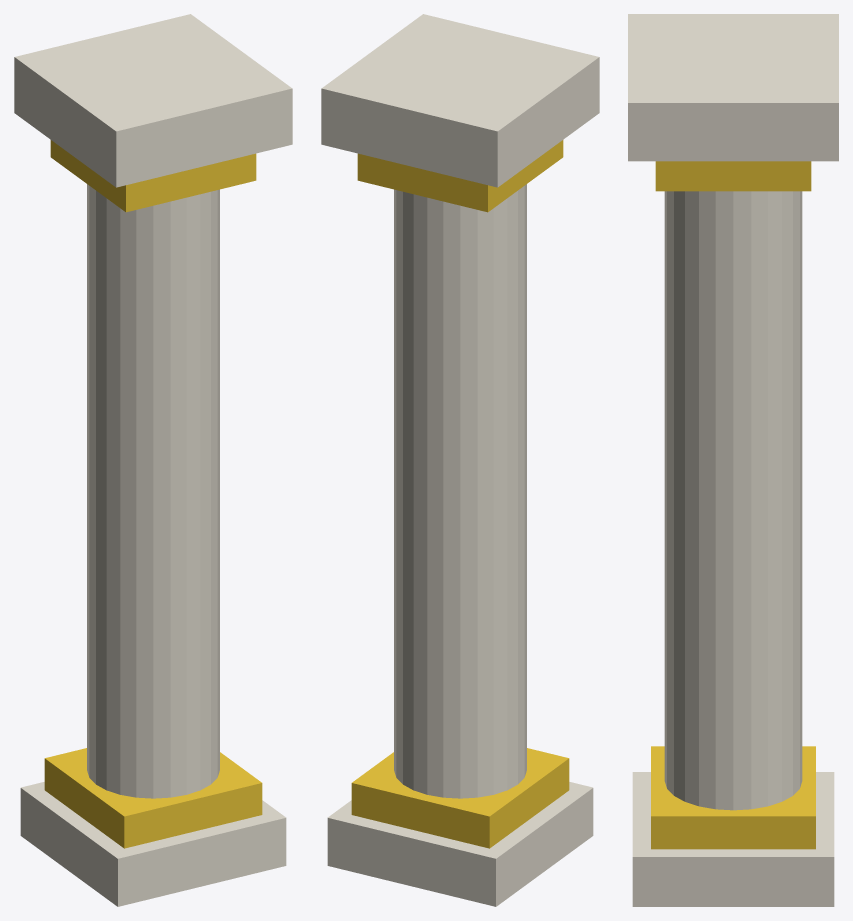
The model's file is roman_pillar.obj.
3 renders of one model, left to right at view 1: azimuth 30°, elevation 25°; view 2: azimuth 150°, elevation 25°; view 3: azimuth 270°, elevation 25°, orthographic. The views are drawn at different scales.
Parts seen in each view (by area): view 1: Column_Shaft, Capital_Top, Base_Plinth, Base_Step, Capital_Base; view 2: Column_Shaft, Capital_Top, Base_Plinth, Base_Step, Capital_Base; view 3: Column_Shaft, Capital_Top, Base_Plinth, Base_Step, Capital_Base.
Part boxes in pixels (left/top/right/bottom): Column_Shaft: left=87, top=184, right=219, bottom=798; Capital_Top: left=14, top=14, right=292, bottom=187; Base_Plinth: left=20, top=782, right=286, bottom=906; Base_Step: left=44, top=748, right=262, bottom=848; Capital_Base: left=50, top=140, right=256, bottom=212; Column_Shaft: left=394, top=184, right=526, bottom=798; Capital_Top: left=321, top=14, right=599, bottom=187; Base_Plinth: left=327, top=782, right=593, bottom=906; Base_Step: left=351, top=748, right=569, bottom=848; Capital_Base: left=357, top=140, right=563, bottom=212; Column_Shaft: left=664, top=191, right=802, bottom=810; Capital_Top: left=628, top=14, right=838, bottom=161; Base_Plinth: left=632, top=772, right=834, bottom=906; Base_Step: left=651, top=746, right=815, bottom=849; Capital_Base: left=655, top=161, right=811, bottom=191.
Bounding box in the file's own units: 2.3 × 9.7 × 2.3.
